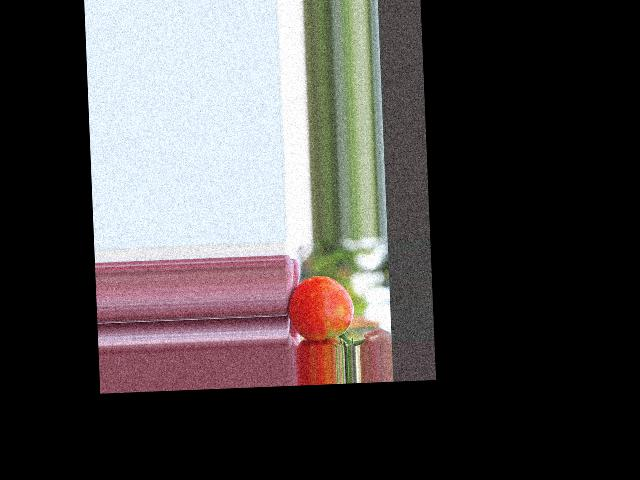tomato: (287, 274, 355, 341)
